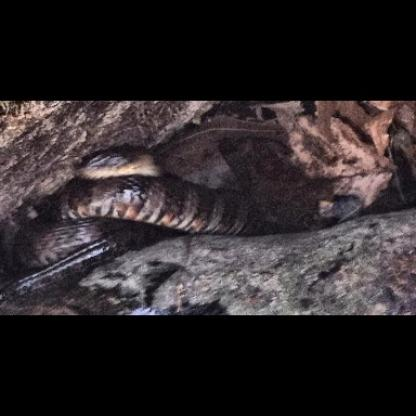Snake: (12, 113, 388, 261)
